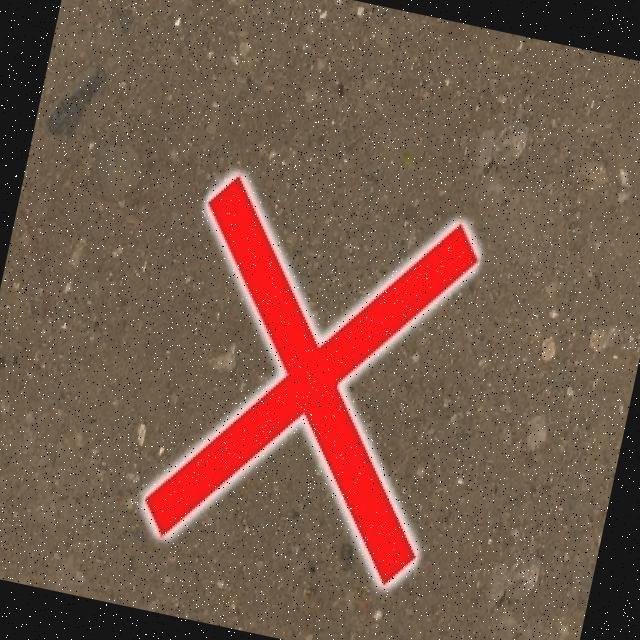x_marker: (138, 171, 484, 588)
